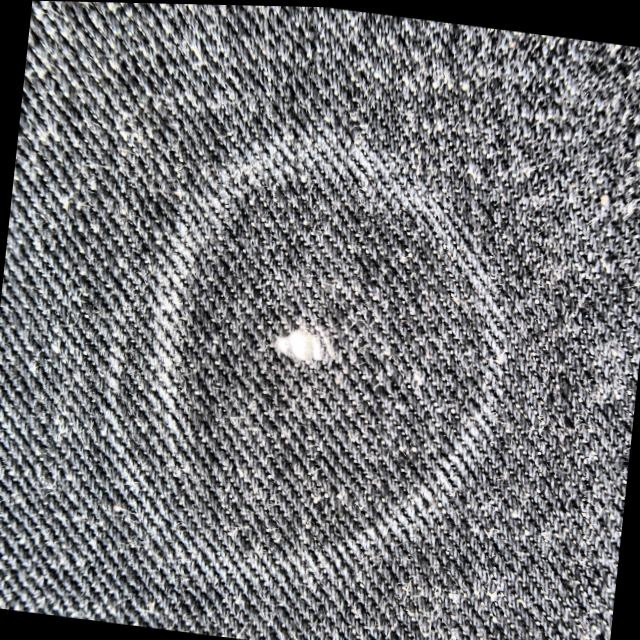Hole: (271, 324, 337, 368)
